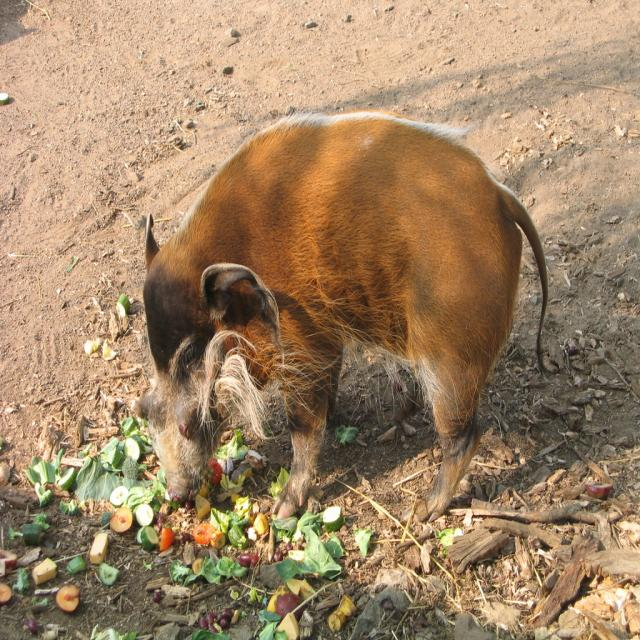Pig: (133, 108, 561, 523)
